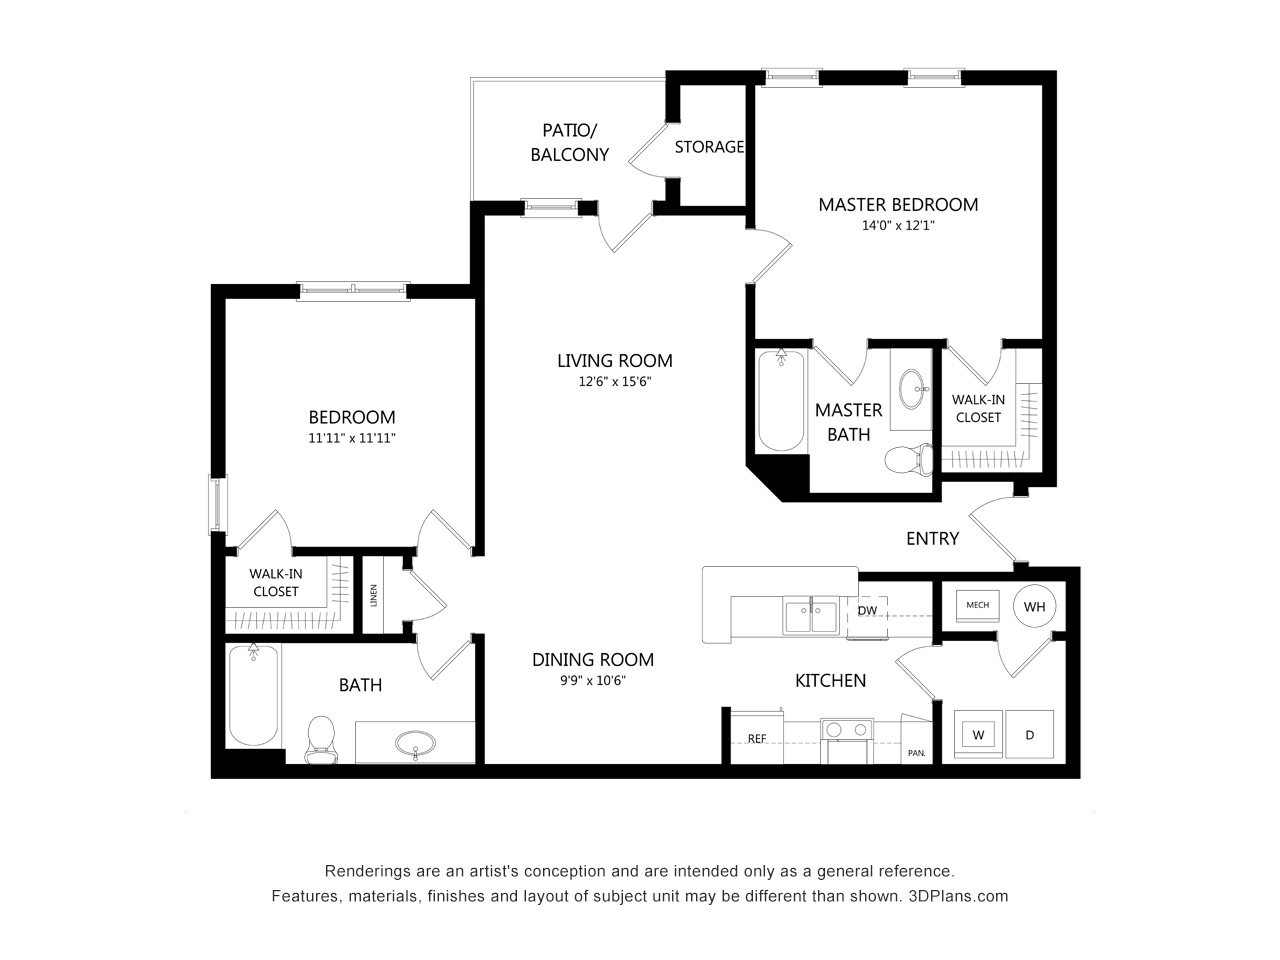door: (966, 497, 1013, 558), (758, 231, 812, 277), (598, 206, 652, 252), (816, 349, 870, 395), (955, 342, 1009, 388), (245, 498, 299, 544), (410, 496, 464, 542), (415, 637, 469, 683), (891, 646, 941, 693), (994, 640, 1049, 679), (619, 138, 669, 179)
wall: (1040, 83, 1059, 352), (1064, 576, 1084, 782), (726, 762, 943, 781), (471, 763, 730, 776), (751, 455, 810, 505), (283, 766, 483, 781), (210, 283, 224, 480), (476, 292, 486, 560), (209, 749, 289, 779), (471, 635, 489, 766), (210, 632, 420, 643), (1040, 345, 1056, 488), (939, 763, 1081, 779), (744, 88, 759, 230), (290, 546, 421, 560), (207, 283, 300, 301), (859, 573, 1016, 583), (807, 492, 946, 503), (663, 68, 763, 83), (211, 638, 224, 753), (469, 198, 523, 225), (661, 65, 683, 129), (931, 340, 941, 480), (820, 70, 904, 85), (651, 202, 747, 215), (1017, 563, 1077, 583), (963, 69, 1053, 82), (470, 202, 484, 285), (746, 345, 756, 455), (406, 283, 489, 295), (869, 336, 943, 349), (211, 533, 220, 640), (1013, 475, 1054, 496), (933, 473, 1011, 482), (743, 339, 810, 348), (931, 700, 941, 760), (723, 709, 734, 763), (743, 286, 753, 345), (664, 178, 683, 205), (403, 550, 413, 569)
